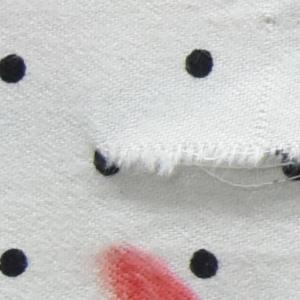Damage: (89, 126, 300, 198), (257, 5, 285, 44)
Stain: (97, 240, 205, 300)
